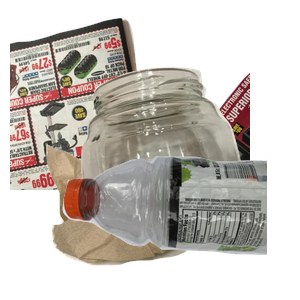glass: (74, 65, 300, 245)
paper: (10, 15, 250, 195)
plastic: (60, 152, 300, 300)
trash: (44, 136, 277, 300)
